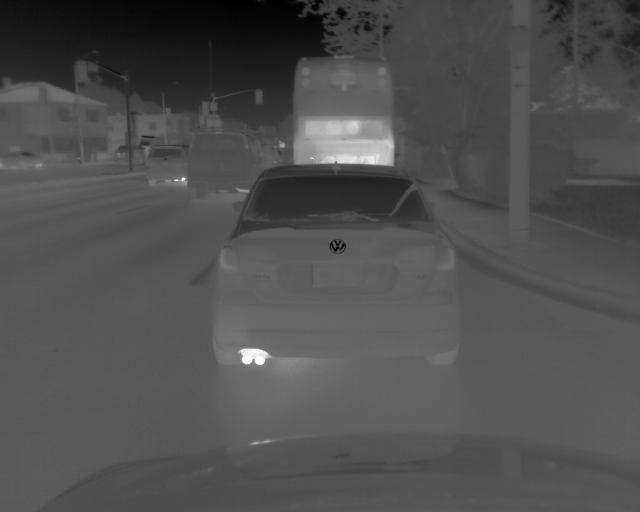car: (212, 164, 460, 367), (292, 54, 395, 167), (189, 131, 262, 193), (143, 143, 185, 187), (1, 150, 44, 171), (114, 144, 130, 160)
